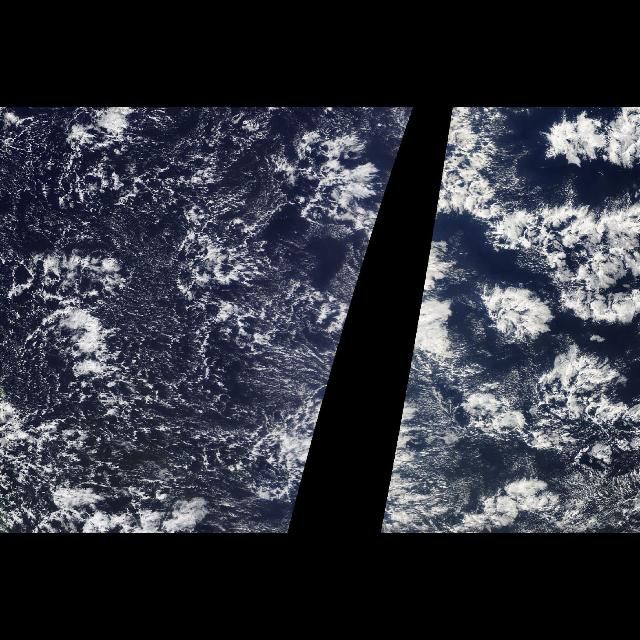Flower: (380, 109, 640, 534), (360, 115, 412, 275)
Gravel: (2, 107, 344, 533)
Sugar: (11, 159, 281, 479)
